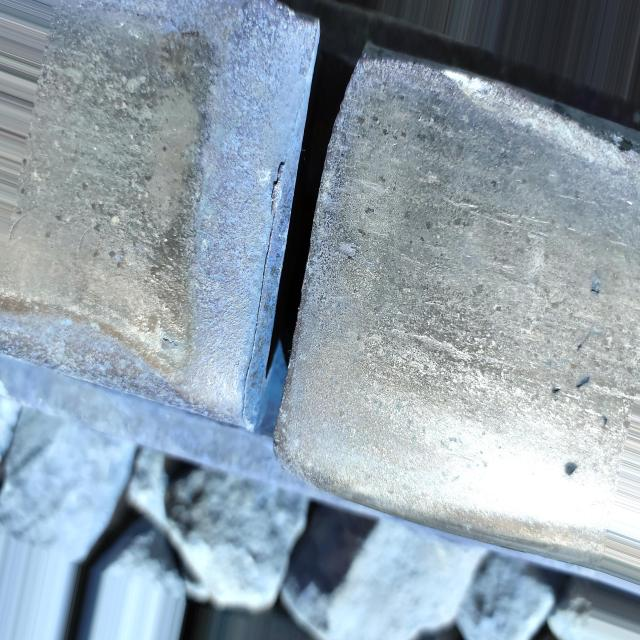crack: (212, 9, 386, 452)
